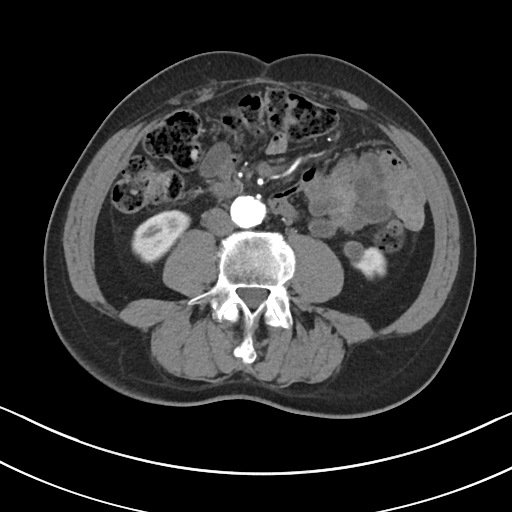Lesion: (340, 241, 367, 266)
